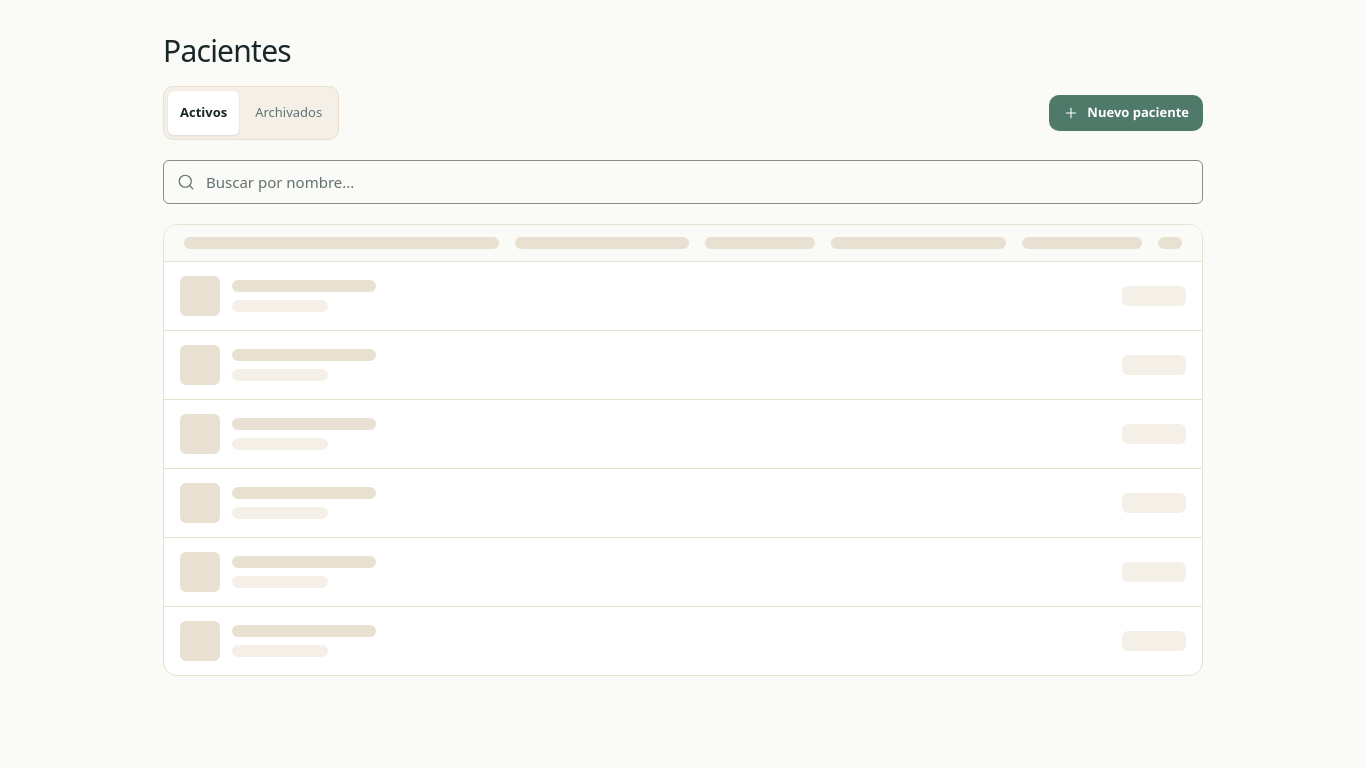
los avisos distinguen un rechazo de una operación confirmada › reactivar desde la lista: éxito=false
Click the tab "Archivados" at x=289, y=112, box [243,90,334,134]
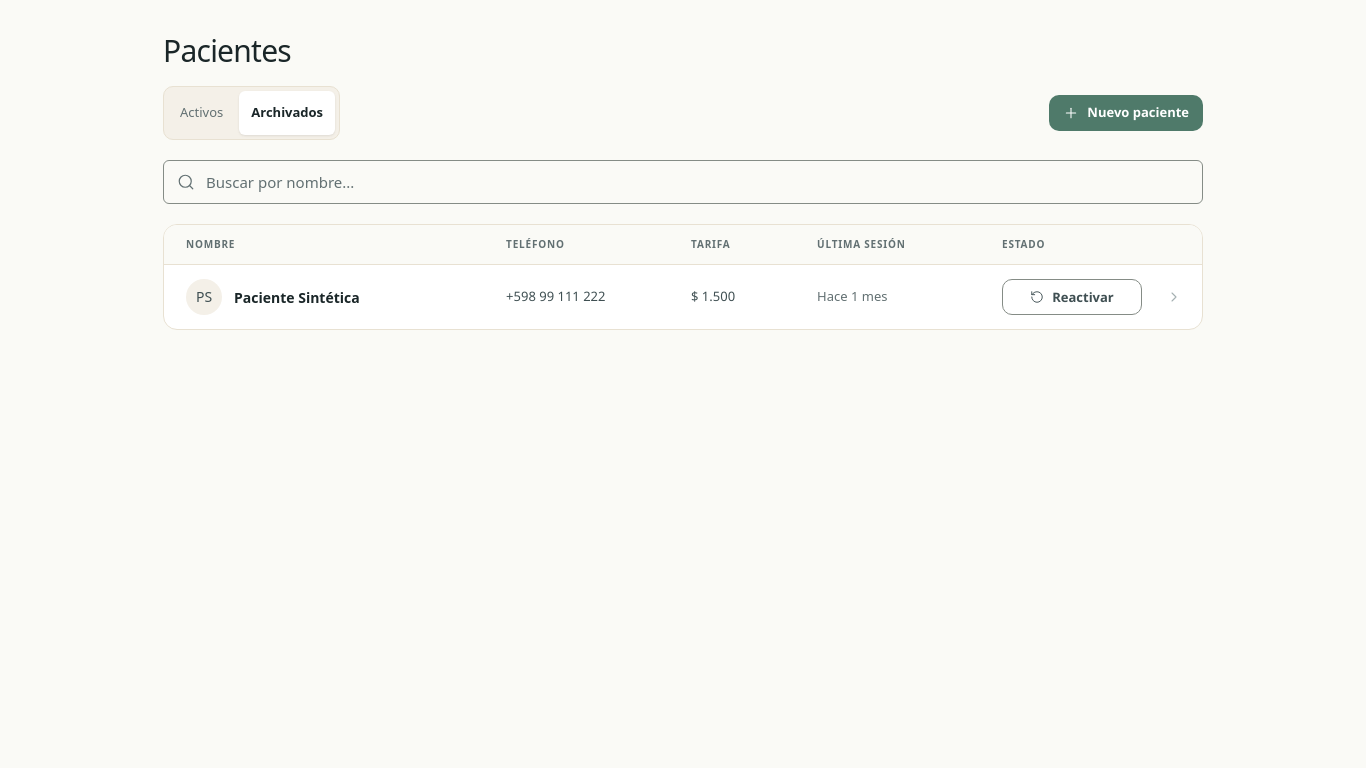
Click the button "Reactivar" at x=1072, y=297, box [1002,279,1142,315]
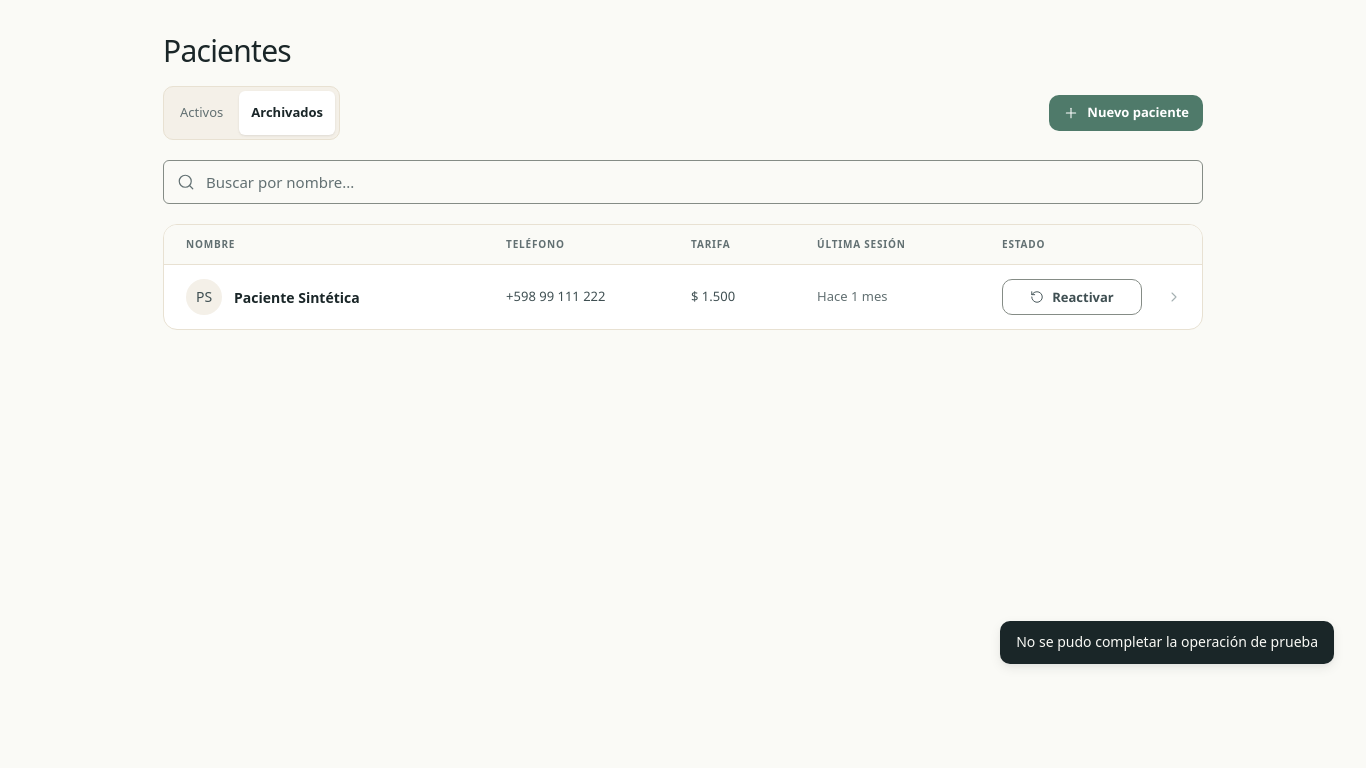
Now the message "No se pudo completar la operación de prueba" is shown, box [1000,621,1334,664]
